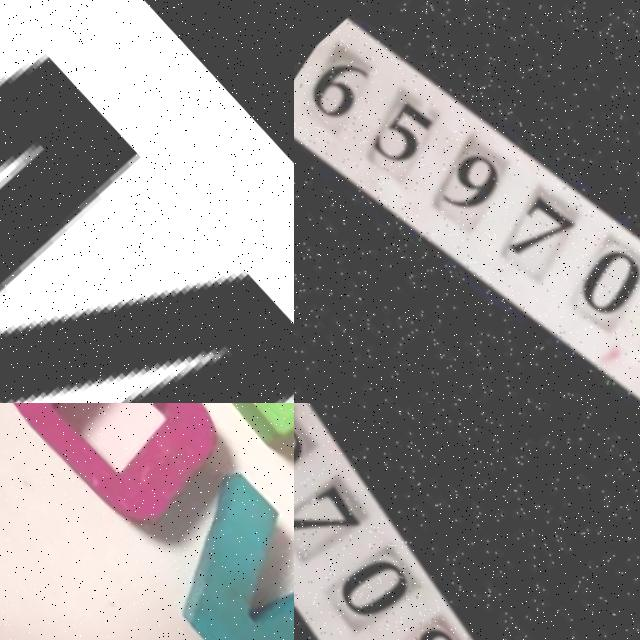0: (314, 518, 427, 636), (546, 207, 640, 332)
5: (343, 67, 455, 183)
6: (294, 20, 392, 140)
7: (474, 160, 597, 287), (294, 448, 376, 570)
8: (362, 584, 477, 640), (613, 254, 640, 380)
9: (411, 115, 524, 233), (294, 403, 322, 496)
M: (0, 0, 294, 403)
O: (0, 403, 248, 545)
V: (124, 444, 294, 640)
